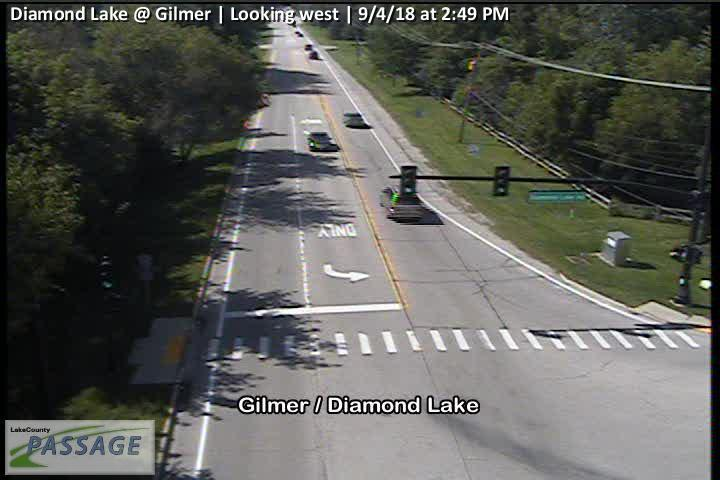SUV: (380, 185, 426, 220)
Sedan: (309, 131, 339, 152), (345, 111, 363, 128)
